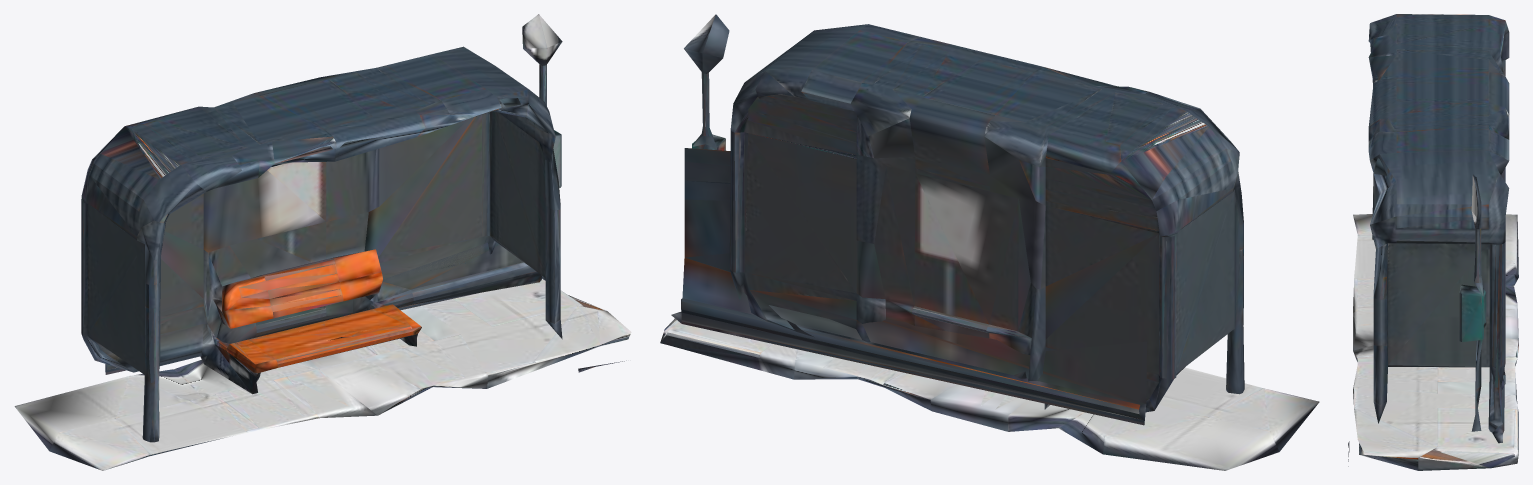
The model's file is busstop.glb.
3 views of the same model, side by side, from view 1: azimuth 30°, elevation 25°; view 2: azimuth 150°, elevation 25°; view 3: azimuth 270°, elevation 25° (orthographic). The views are drawn at different scales.
Size of the model in its own units: 1.9 by 1.01 by 0.5518.
Materials: 1 (1 with a texture image).
